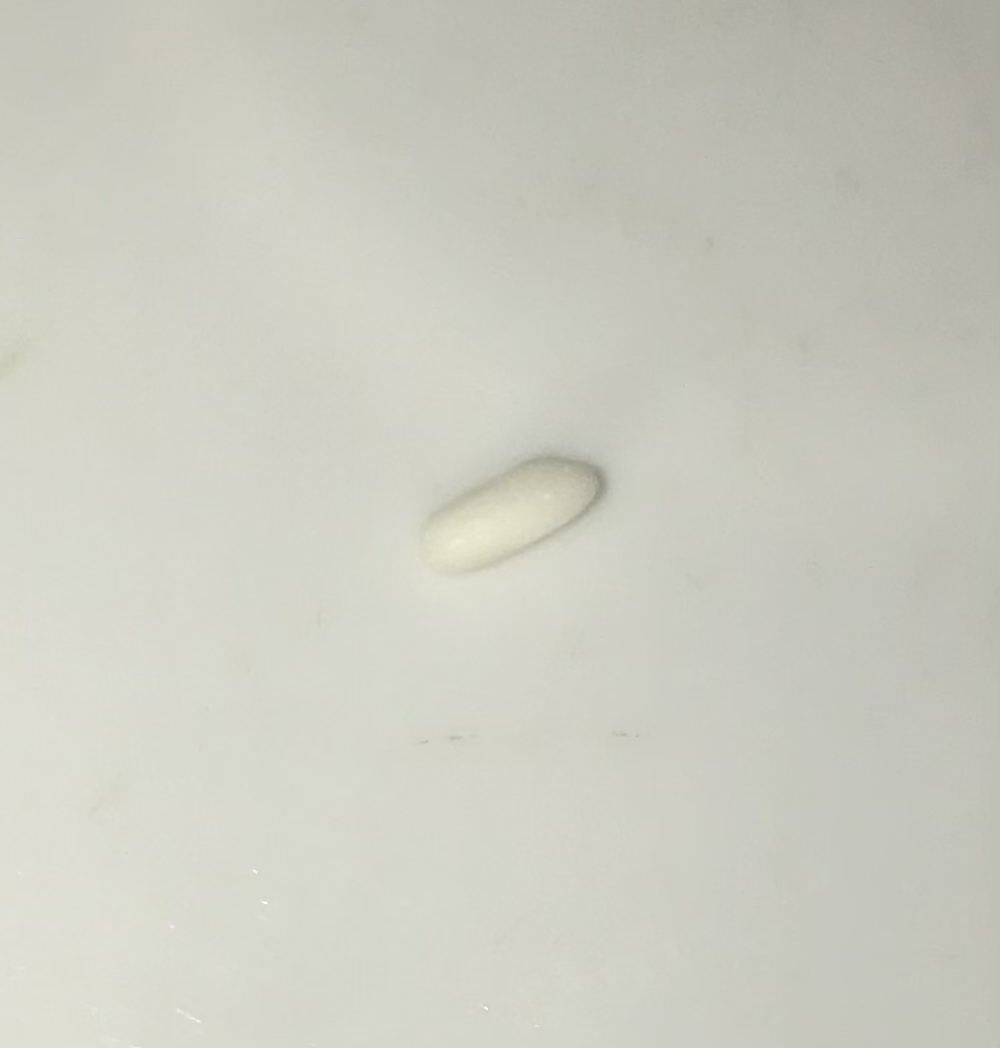Gao Nep Sap: (401, 439, 613, 590)
